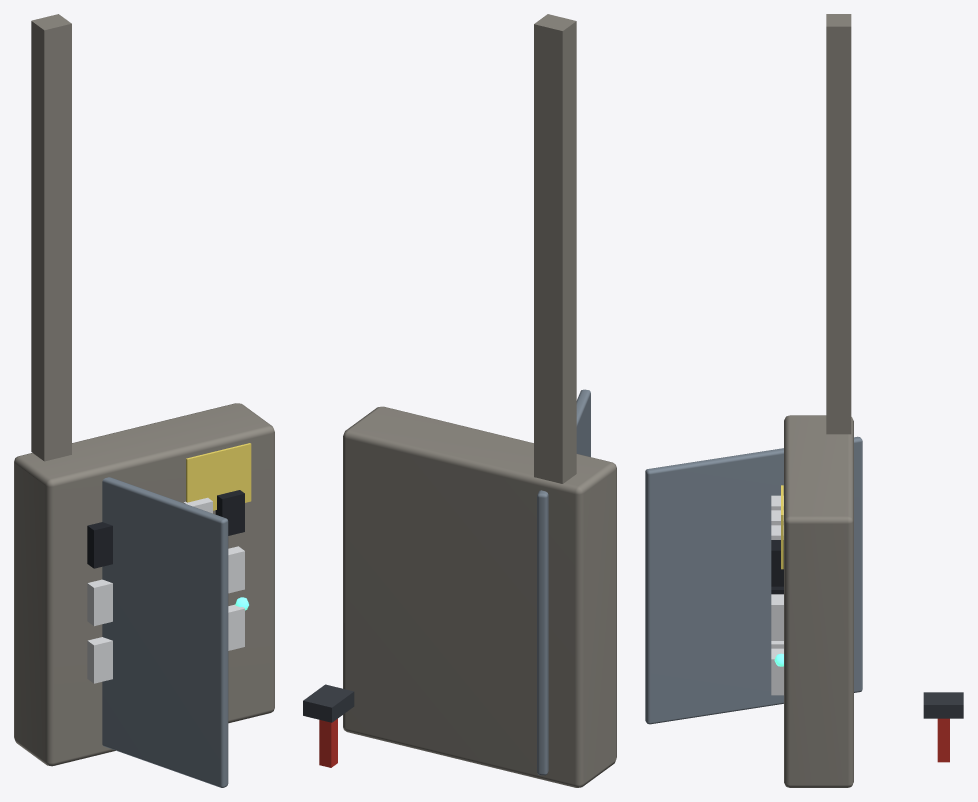
File: FuseBox.fbx
3 views of the same model, side by side, from view 1: azimuth 30°, elevation 25°; view 2: azimuth 150°, elevation 25°; view 3: azimuth 270°, elevation 25° (orthographic). The views are drawn at different scales.
Parts seen in each view (by area): view 1: FuseBoxBody, Door; view 2: FuseBoxBody, Door, FuseLeverBody; view 3: FuseBoxBody, Door, FuseLeverBody.
Part boxes in pixels (bbox=[...]): FuseBoxBody: bbox=[14, 14, 274, 766]; Door: bbox=[102, 477, 228, 787]; FuseBoxBody: bbox=[343, 14, 616, 787]; Door: bbox=[537, 389, 590, 775]; FuseLeverBody: bbox=[303, 684, 354, 767]; FuseBoxBody: bbox=[771, 14, 853, 787]; Door: bbox=[645, 436, 862, 724]; FuseLeverBody: bbox=[923, 692, 963, 762].
Size of the model in its own units: 0.5 by 1.5 by 0.6375.
